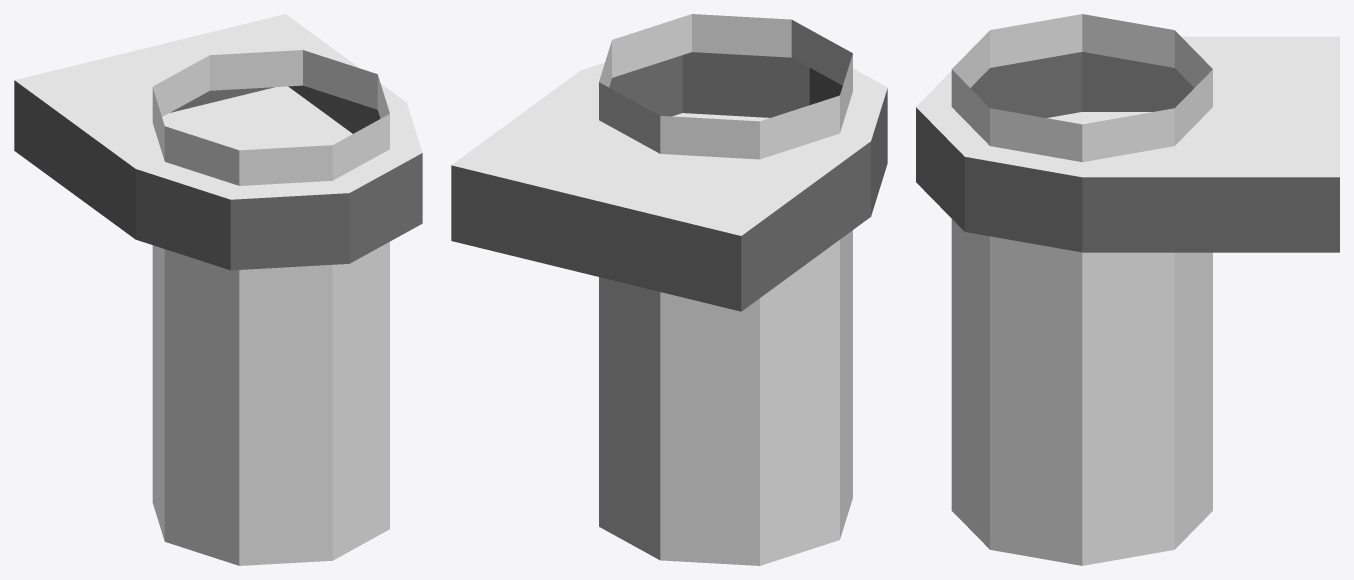
The model's file is pipeStraight.glb.
3 views of the same model, side by side, from view 1: azimuth 30°, elevation 25°; view 2: azimuth 150°, elevation 25°; view 3: azimuth 270°, elevation 25° (orthographic). The views are drawn at different scales.
Parts seen in each view (by area): view 1: straight; view 2: straight; view 3: straight.
Boxes of the visible parts, x1,y1,x2,y2 form: straight: [14, 14, 422, 565]; straight: [451, 14, 887, 565]; straight: [916, 14, 1339, 565].
Bounding box in the file's own units: 1.37 × 2 × 1.74.
Materials: 1 (1 with a texture image).
